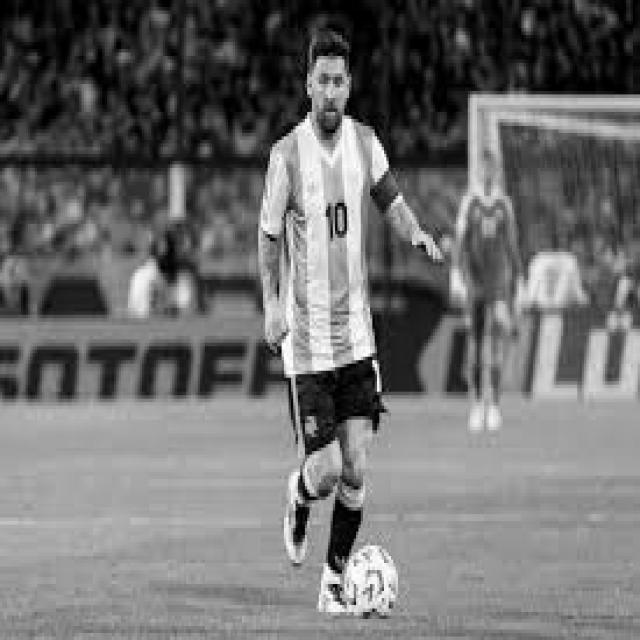football: (336, 538, 402, 625)
